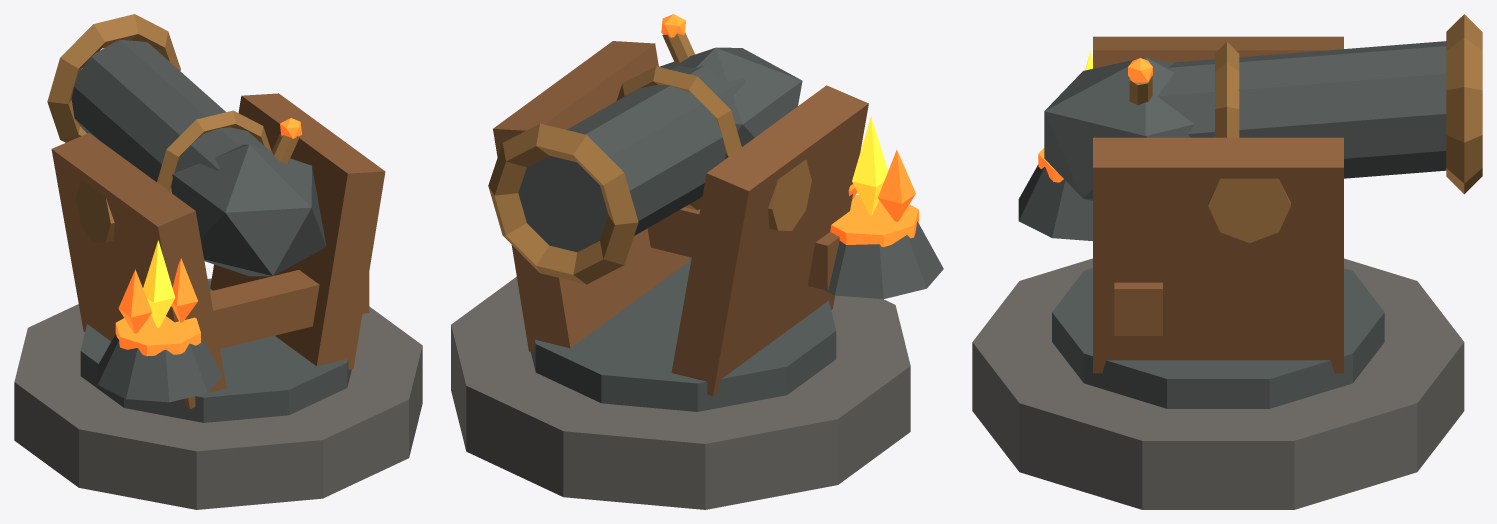
Rendered from tower-cannon.glb.
The picture shows the model from 3 angles, left to right: view 1: azimuth 30°, elevation 25°; view 2: azimuth 150°, elevation 25°; view 3: azimuth 270°, elevation 25°; orthographic projection. The views are drawn at different scales.
Visible parts, largest first — view 1: CannonFoot, CradleLeg-1, CradleLeg1, CannonBreech, Barrel, IronTurntable, CradleCrossbeam, BrazierBowl, MuzzleBand, BrazierCoals, BreechBand, TrunnionCap-1 (+4 smaller); view 2: CannonFoot, CradleLeg-1, Barrel, IronTurntable, CradleLeg1, MuzzleBand, BrazierBowl, CannonBreech, CradleCrossbeam, BrazierCoals, BreechBand, TrunnionCap-1 (+3 smaller); view 3: CannonFoot, CradleLeg1, Barrel, IronTurntable, CannonBreech, MuzzleBand, CradleLeg-1, TrunnionCap1, BrazierBowl, CradleCrossbeam, BreechBand.
Part boxes in pixels (x1,y1,x2,y2): CannonFoot: (14,278,422,509); CradleLeg-1: (51,133,226,408); CradleLeg1: (210,93,385,369); CannonBreech: (172,144,326,276); Barrel: (71,40,270,195); IronTurntable: (80,281,351,422); CradleCrossbeam: (210,270,369,348); BrazierBowl: (97,334,222,402); MuzzleBand: (47,14,180,142); BrazierCoals: (115,315,200,356); BreechBand: (157,110,271,192); TrunnionCap-1: (75,179,114,242); CannonFoot: (451,276,910,509); CradleLeg-1: (671,85,868,396); Barrel: (518,65,745,252); IronTurntable: (530,257,836,411); CradleLeg1: (493,41,690,351); MuzzleBand: (488,123,638,284); BrazierBowl: (823,221,943,299); CannonBreech: (659,47,802,146); CradleCrossbeam: (647,207,839,290); BrazierCoals: (830,194,918,247); BreechBand: (616,66,741,210); TrunnionCap-1: (768,159,811,230); CannonFoot: (972,258,1464,509); CradleLeg1: (1093,137,1343,373); Barrel: (1157,41,1446,178); IronTurntable: (1052,268,1384,408); CannonBreech: (1044,57,1193,200); MuzzleBand: (1446,14,1482,194); CradleLeg-1: (1093,36,1343,68); TrunnionCap1: (1208,178,1290,242); BrazierBowl: (1018,165,1092,240); CradleCrossbeam: (1114,282,1162,335); BreechBand: (1215,42,1239,137).
Bounding box in the file's own units: 2.7 × 2.45 × 2.94.
